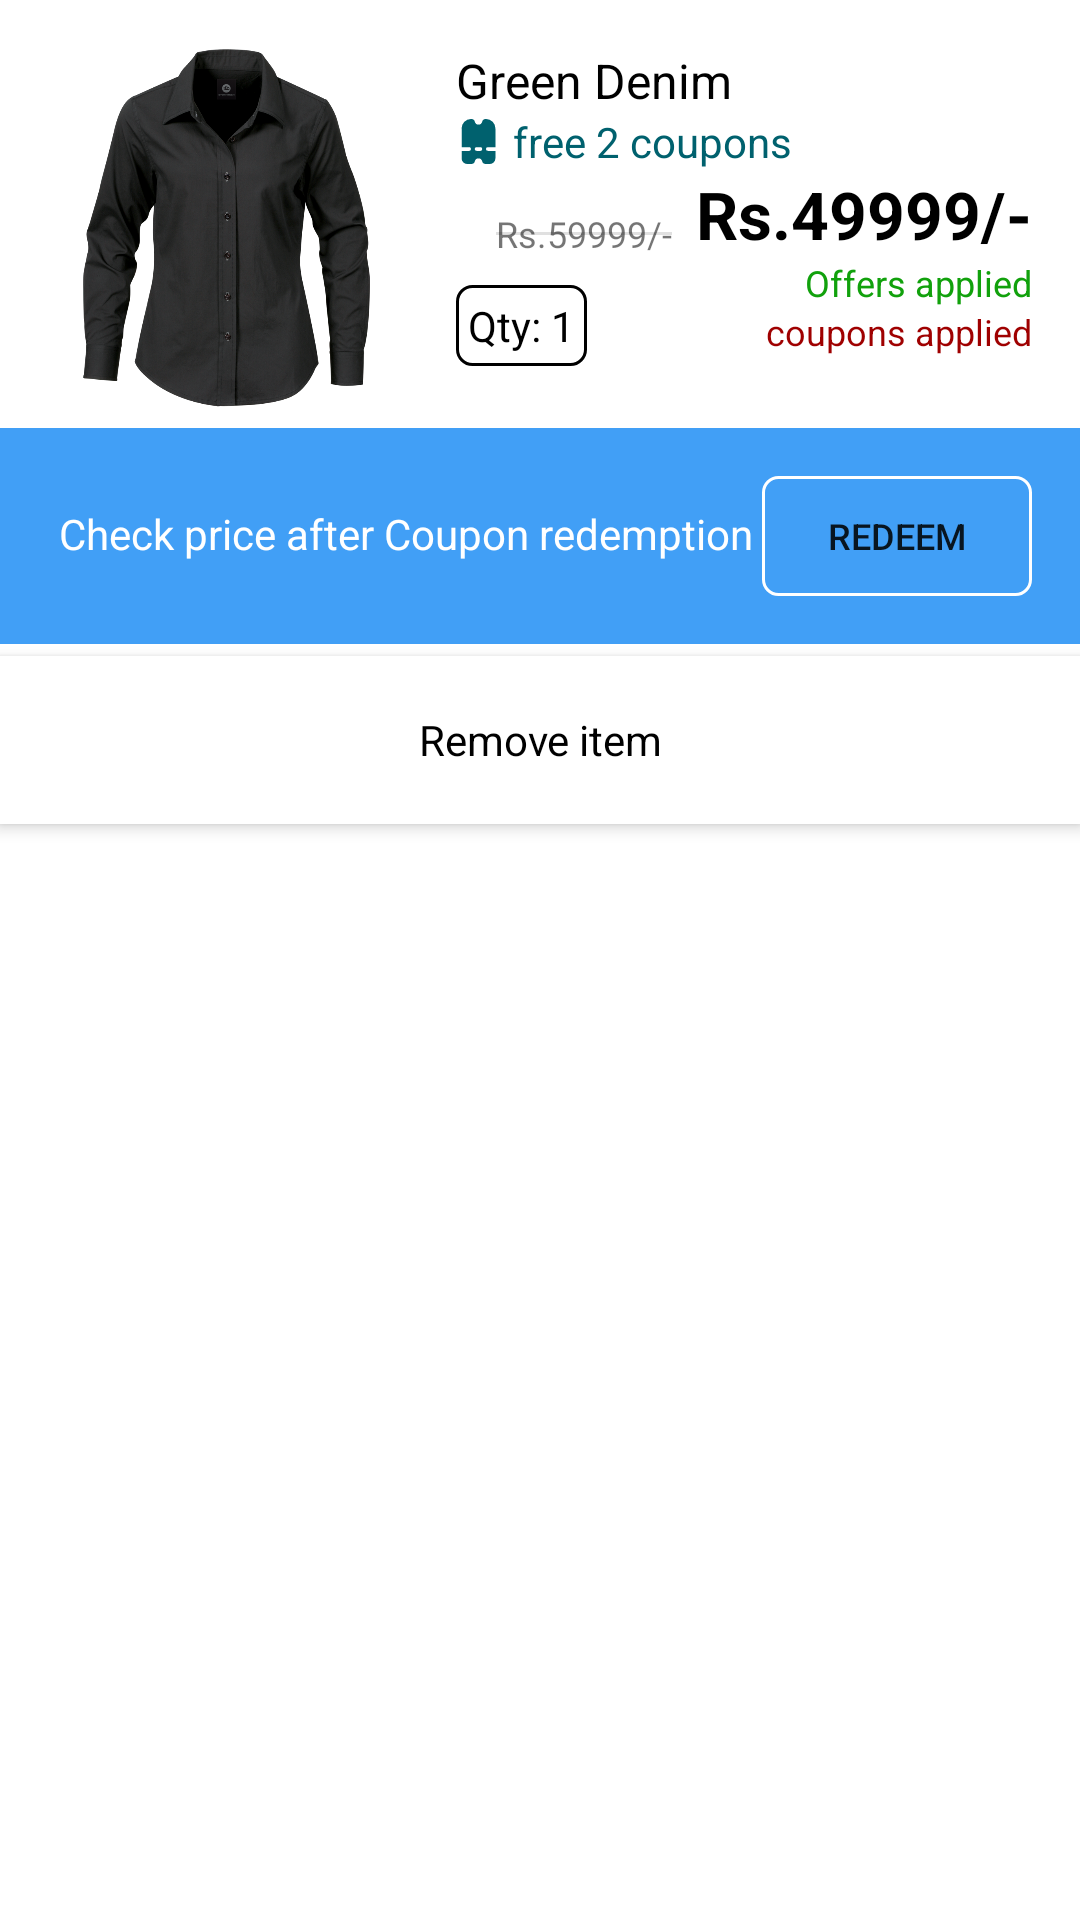

Where icons sit on this 1080*1920 app screen, as (left=x1, top=y1, right=x2, bottom=y2):
rewards: (left=461, top=119, right=496, bottom=164)
